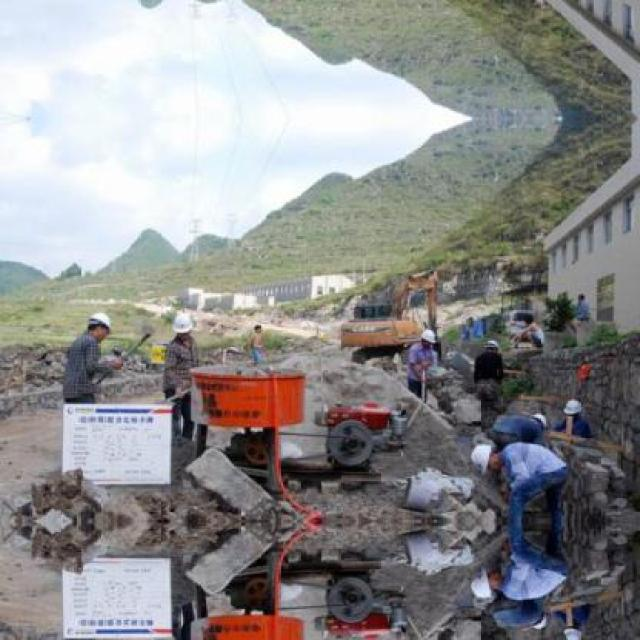helmet: (465, 440, 501, 474), (465, 566, 501, 600), (84, 309, 113, 343), (171, 309, 195, 346), (564, 400, 581, 422), (563, 618, 582, 637), (418, 328, 434, 348), (484, 340, 498, 356)
